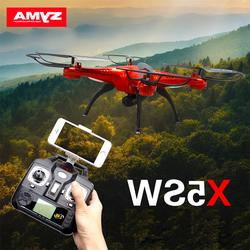drone: (25, 52, 247, 135)
